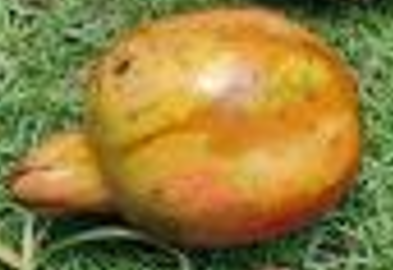pomegranate_B: (11, 5, 362, 251)
